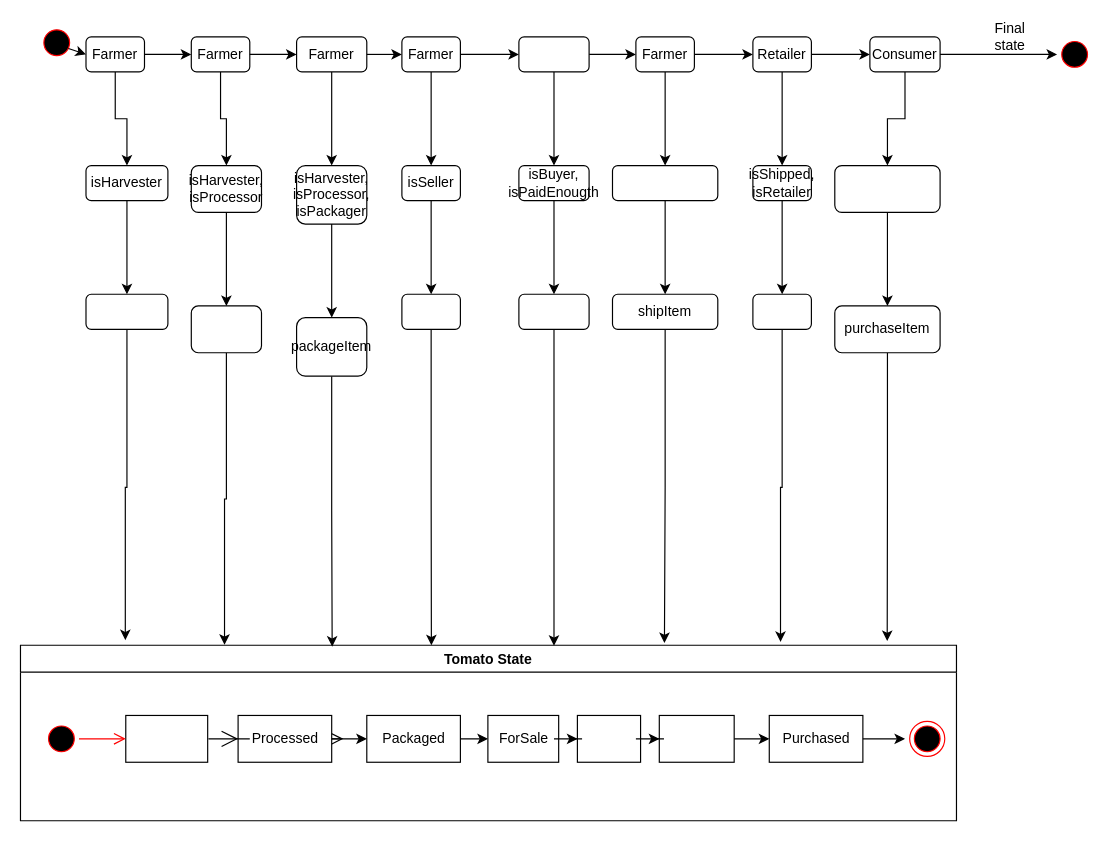
Some shapes in this 1113 by 841 pixel diagram are drawn without their labels. The centre of each missing label's shape, as x and y in pixels:
"buyItem" goes at (553,311).
"Distributor" goes at (553,54).
"harvestItem" goes at (126,311).
"Hasvested" goes at (166,738).
"isConsumer, hasPaidEnougth, isCkeckValue" goes at (887,188).
"isSold, isPacked" goes at (664,182).
"processItem" goes at (225,329).
"Received" goes at (696,738).
"receiveItem" goes at (781,311).
"sellItem" goes at (430,311).
"Shipped" goes at (608,738).
